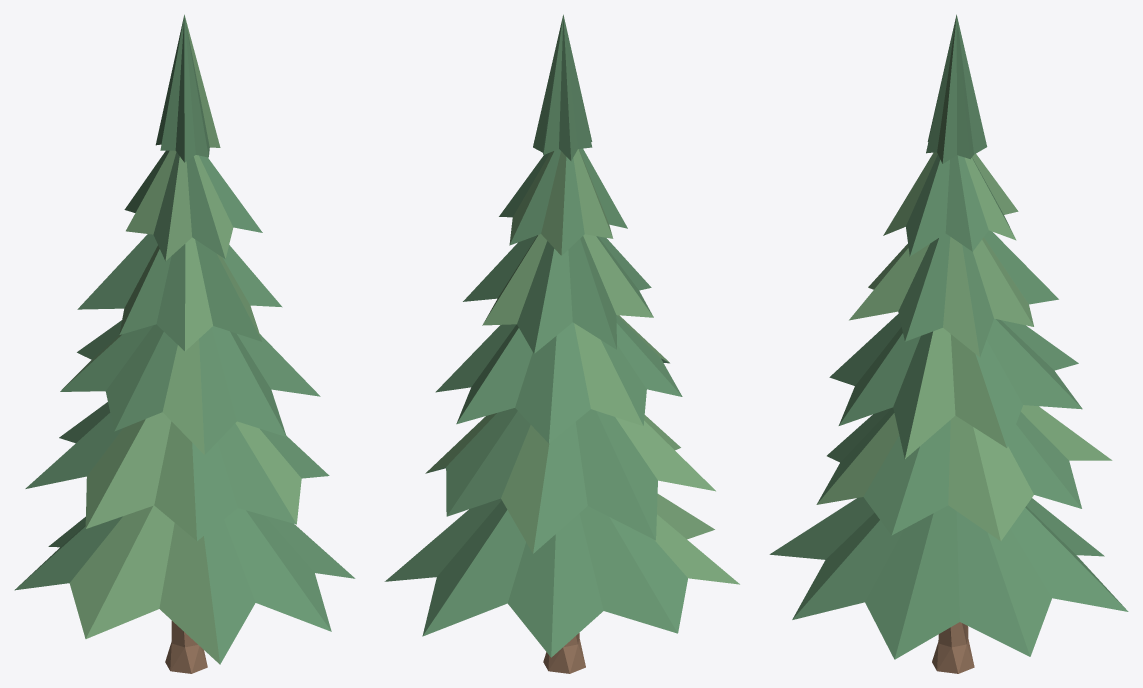
Rendered from pine.glb.
3 views of the same model, side by side, from view 1: azimuth 30°, elevation 25°; view 2: azimuth 150°, elevation 25°; view 3: azimuth 270°, elevation 25° (orthographic).
Visible parts, largest first — view 1: Pine; view 2: Pine; view 3: Pine.
Part boxes in pixels (<box>): Pine: <box>14,14,355,673</box>; Pine: <box>384,14,739,673</box>; Pine: <box>769,14,1128,673</box>.
Bounding box in the file's own units: 4.41 × 9.64 × 4.83.
